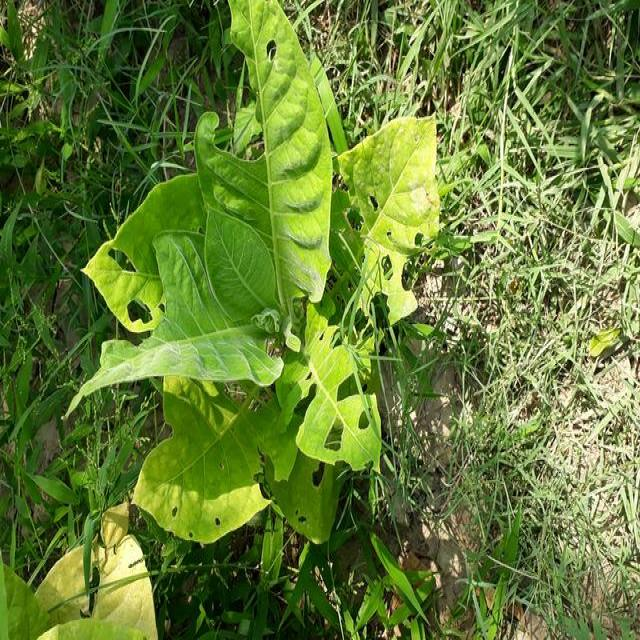crop: (66, 1, 444, 546)
